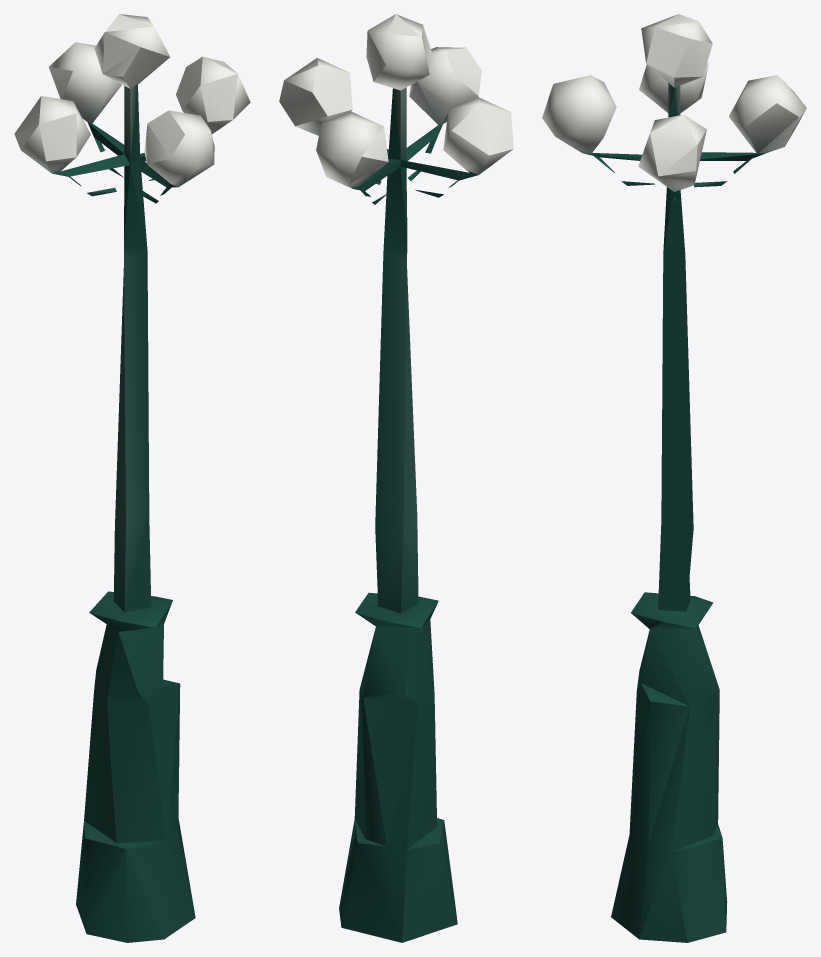
File: den_cot_den_cau_xanh.far.glb
3 renders of one model, left to right at view 1: azimuth 30°, elevation 25°; view 2: azimuth 150°, elevation 25°; view 3: azimuth 270°, elevation 25°, orthographic.
Parts seen in each view (by area): view 1: den_cong_vien; view 2: den_cong_vien; view 3: den_cong_vien.
Boxes of the visible parts, box(x1,y1,x2,y2) form: den_cong_vien: box(14, 14, 250, 942); den_cong_vien: box(279, 14, 513, 942); den_cong_vien: box(542, 14, 806, 942).
Size of the model in its own units: 1.25 by 4.76 by 1.28.
